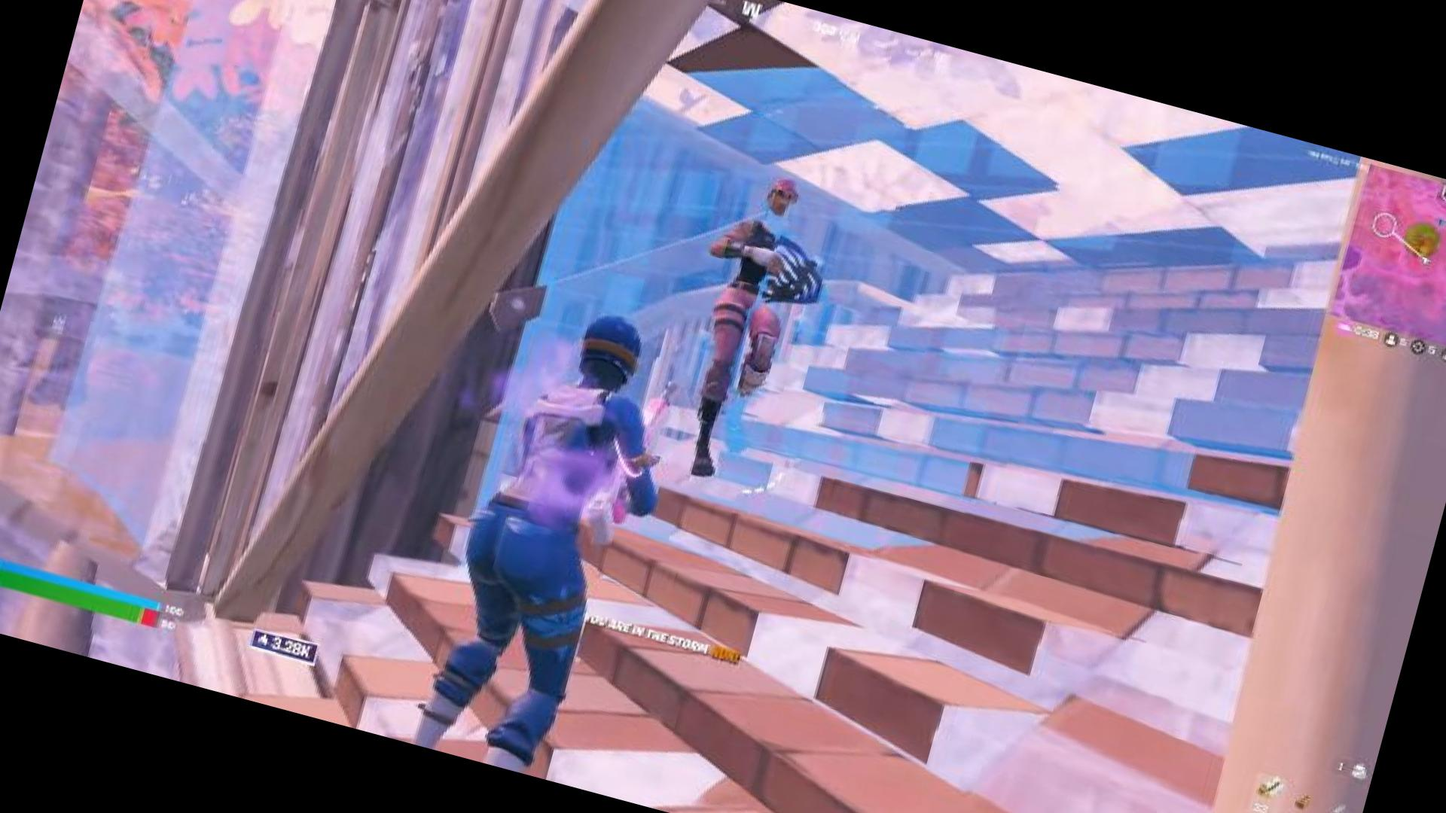player: (384, 266, 700, 788), (672, 171, 833, 477)
